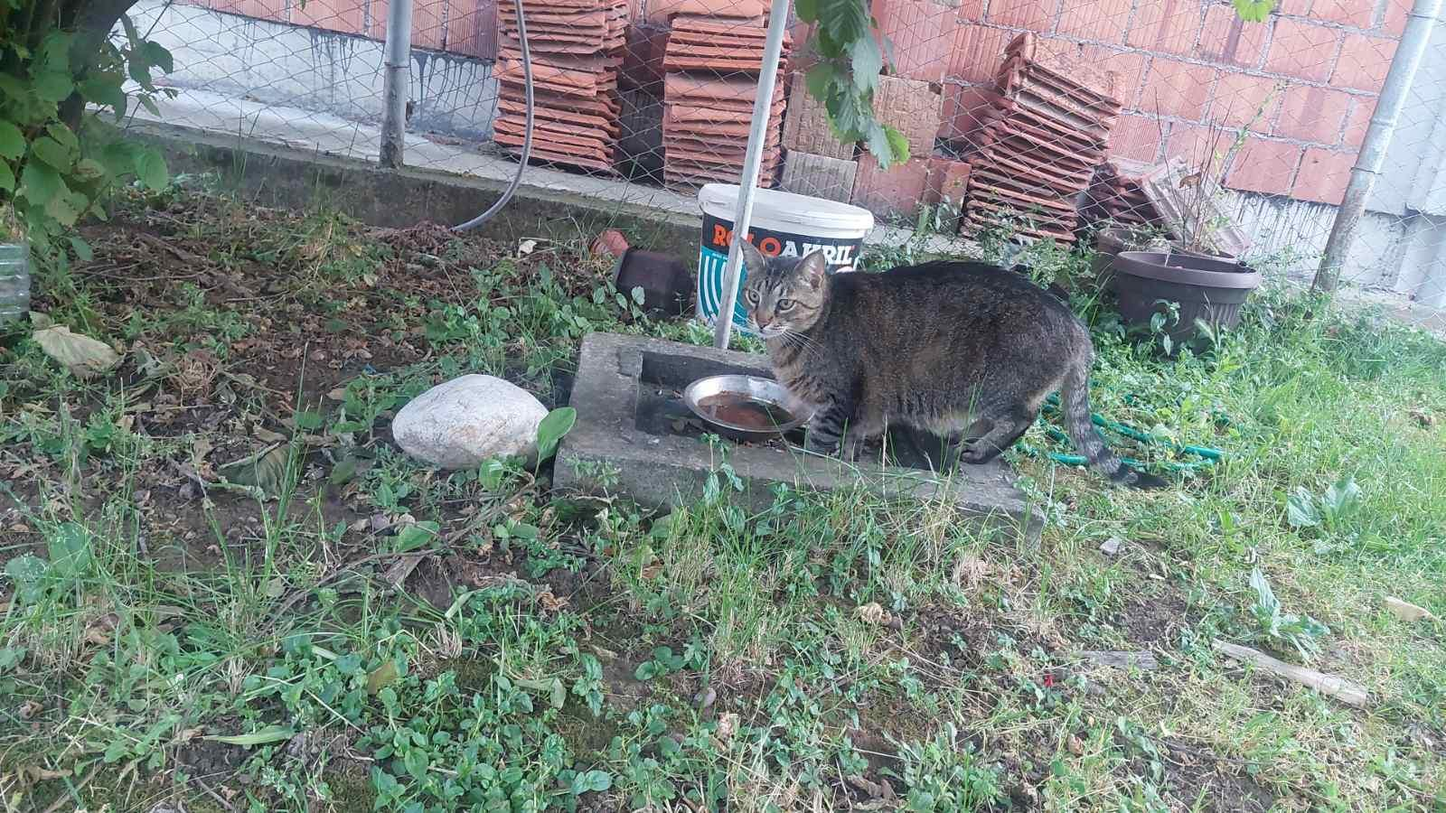macka: (739, 238, 1168, 490)
